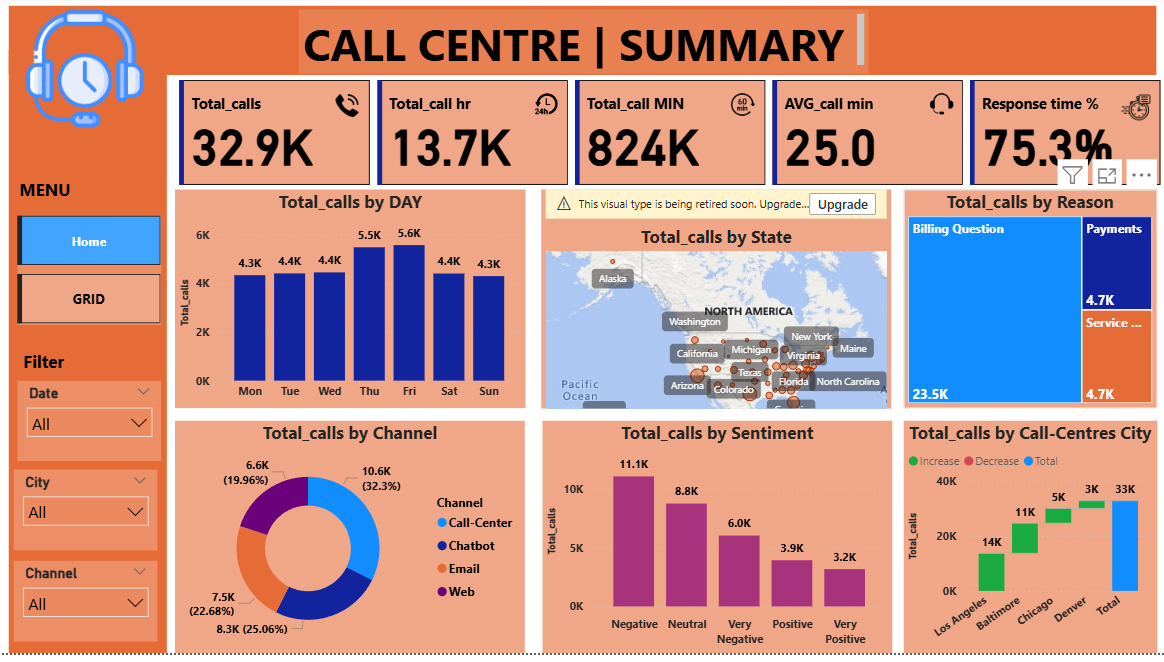

What the dashboard file says about the page in this screenshot:
{"tool":"powerbi","page":{"name":"Home","canvas":[1280,720],"ordinal":0},"visuals":[{"type":"shape","box":[10.2,10.2,1259.8,76],"z":0},{"type":"shape","box":[10.2,58.5,173.9,662.1],"z":1000},{"type":"cardVisual","fields":{"Data":["AMeasures.Total_calls","AMeasures.Total_callduration hr","AMeasures.Total_callduration MIN","AMeasures.AVG_callduration min","AMeasures.Response time %"]},"box":[191.5,86.2,1088.8,125.7],"z":2000},{"type":"textbox","box":[327.4,13.2,625.5,70.2],"z":3000},{"type":"columnChart","fields":{"Y":["AMeasures.Total_calls"],"Category":["Date_Table.DAY"]},"box":[191.5,211.9,385,240],"z":4000},{"type":"map","fields":{"Category":["Call Center_Call Center.State"],"Size":["AMeasures.Total_calls"]},"box":[594.8,211.9,384.4,239.7],"z":5000},{"type":"treemap","fields":{"Values":["AMeasures.Total_calls"],"Group":["Call Center_Call Center.Reason"]},"box":[992.4,211.9,277.7,239.7],"z":6000},{"type":"donutChart","fields":{"Category":["Call Center_Call Center.Channel"],"Y":["AMeasures.Total_calls"]},"box":[191.5,464.8,384.4,255.8],"z":7000},{"type":"columnChart","fields":{"Category":["Call Center_Call Center.Sentiment"],"Y":["AMeasures.Total_calls"]},"box":[595,465,384,255],"z":8000},{"type":"waterfallChart","fields":{"Category":["Call Center_Call Center.Call-Centres City"],"Y":["AMeasures.Total_calls"]},"box":[992,465,278,255],"z":9000},{"type":"slicer","fields":{"Values":["Call Center_Call Center.City"]},"box":[14.6,518.8,157.8,89.2],"z":10000},{"type":"slicer","fields":{"Values":["Date_Table.Date"]},"box":[19,420.9,157.8,87.7],"z":11000},{"type":"slicer","fields":{"Values":["Call Center_Call Center.Channel"]},"box":[14.6,618.2,157.8,89.2],"z":12000},{"type":"image","box":[10.2,10.2,166.6,138.8],"z":13000},{"type":"pageNavigator","box":[19,239.7,157.8,119.8],"z":14000},{"type":"textbox","box":[16.1,192.9,77.5,38],"z":15000},{"type":"textbox","box":[20.5,382.9,77.5,38],"z":16000}]}

Visuals, with their boxes on the page's 1280x720 design canvas (x1, y1, x2, y2). These are canvas units, not pixel positions in the 1164x662 screenshot, which may show the page scaled, cropped or inside an application window:
shape: box=[10, 10, 1270, 86]
shape: box=[10, 58, 184, 721]
cardVisual - AMeasures.Total_calls x AMeasures.Total_callduration hr: box=[192, 86, 1280, 212]
textbox: box=[327, 13, 953, 83]
columnChart - AMeasures.Total_calls x Date_Table.DAY: box=[192, 212, 576, 452]
map - Call Center_Call Center.State x AMeasures.Total_calls: box=[595, 212, 979, 452]
treemap - AMeasures.Total_calls x Call Center_Call Center.Reason: box=[992, 212, 1270, 452]
donutChart - Call Center_Call Center.Channel x AMeasures.Total_calls: box=[192, 465, 576, 721]
columnChart - Call Center_Call Center.Sentiment x AMeasures.Total_calls: box=[595, 465, 979, 720]
waterfallChart - Call Center_Call Center.Call-Centres City x AMeasures.Total_calls: box=[992, 465, 1270, 720]
slicer - Call Center_Call Center.City: box=[15, 519, 172, 608]
slicer - Date_Table.Date: box=[19, 421, 177, 509]
slicer - Call Center_Call Center.Channel: box=[15, 618, 172, 707]
image: box=[10, 10, 177, 149]
pageNavigator: box=[19, 240, 177, 360]
textbox: box=[16, 193, 94, 231]
textbox: box=[20, 383, 98, 421]
